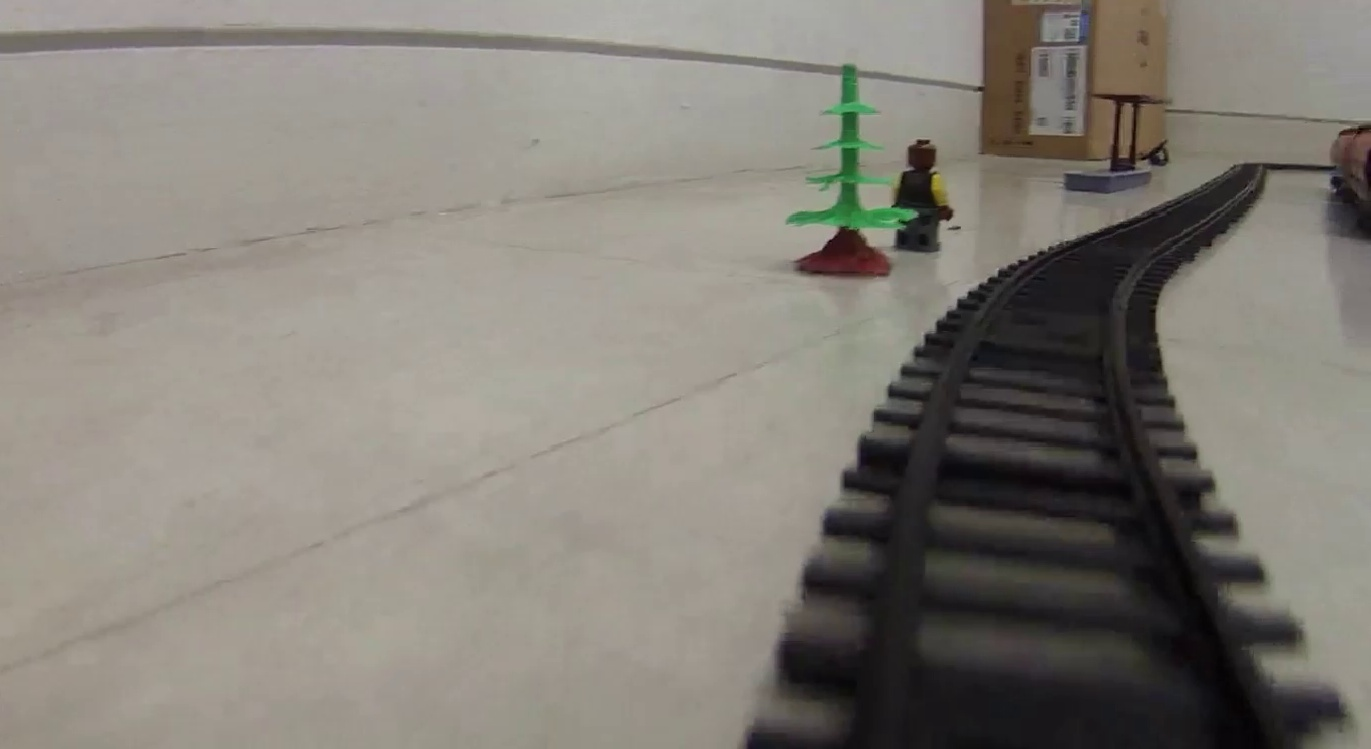people: (892, 139, 953, 254)
tree: (784, 63, 914, 280)
